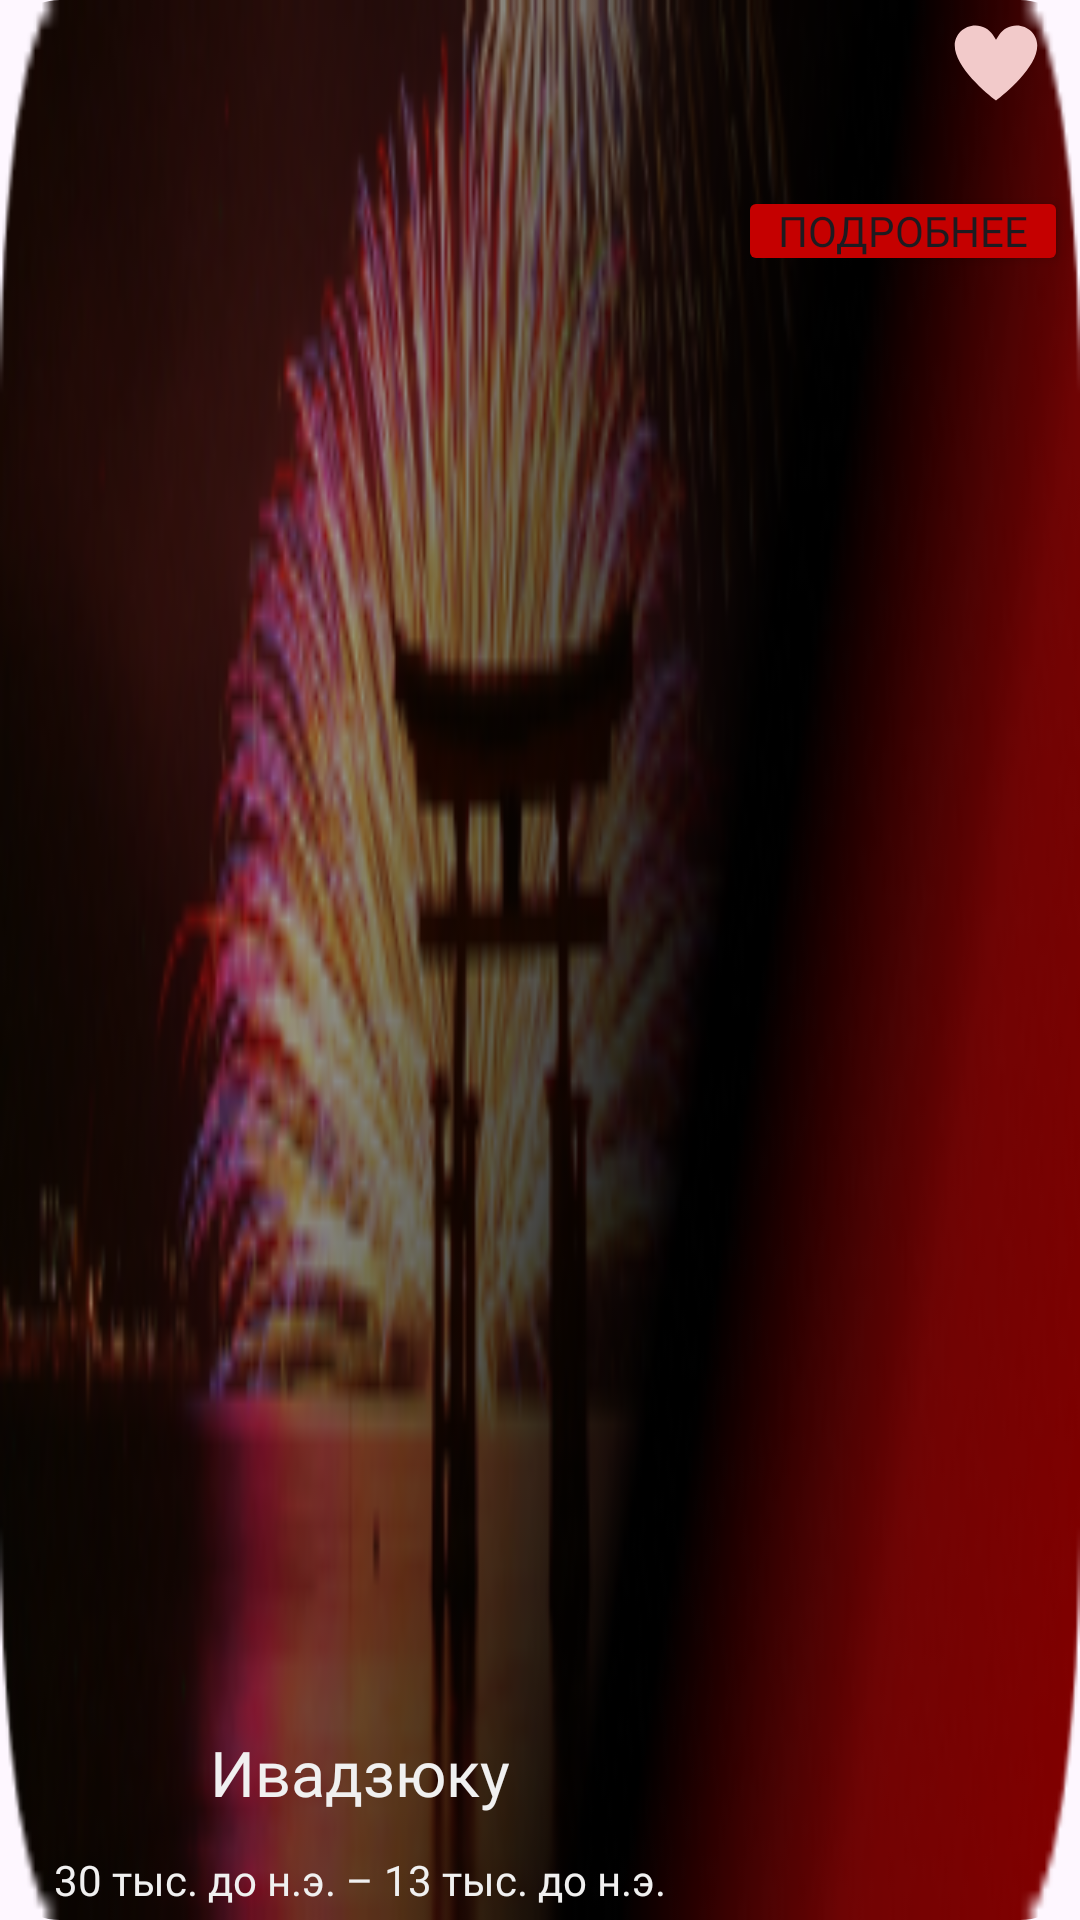

Screen size 1080w x 1920h. Icon name, then its center in pixels as point (x, y):
heart: point (996, 63)
